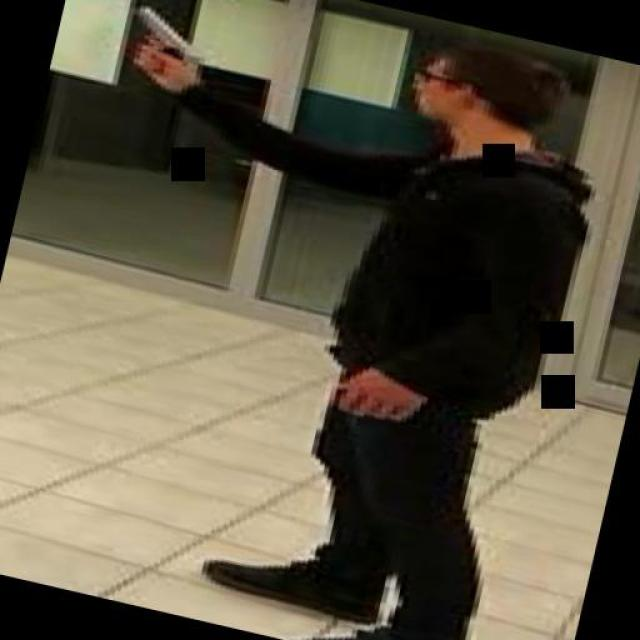gun: (105, 0, 214, 84)
